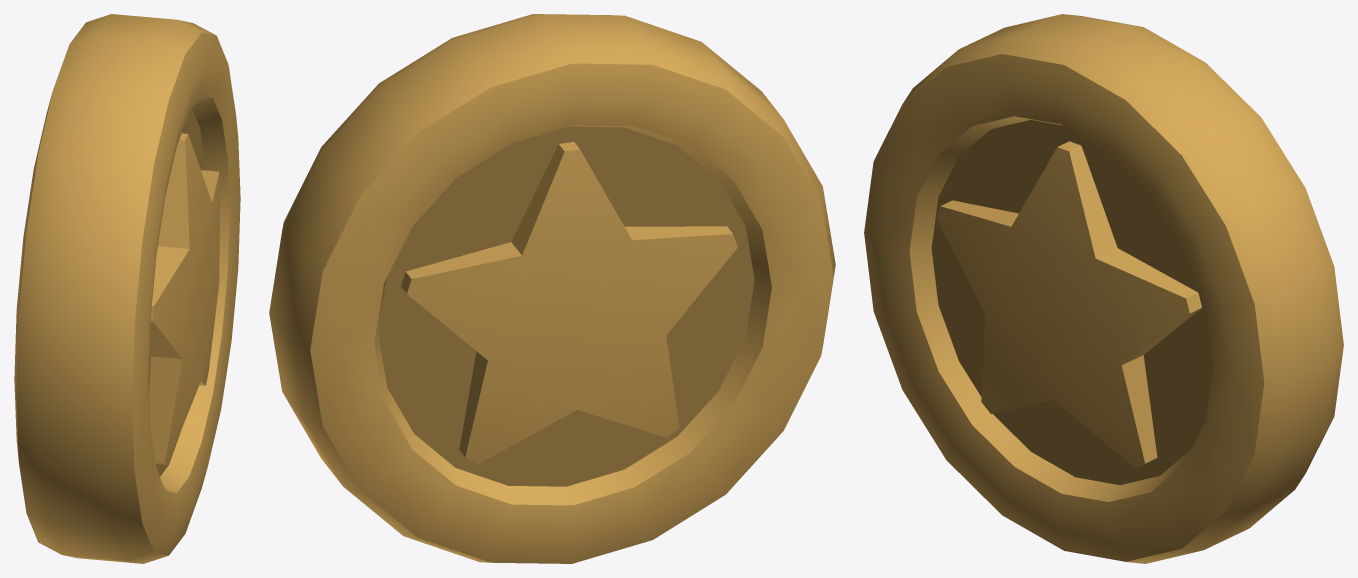
Rendered from Coin.003.fbx.
The picture shows the model from 3 angles, left to right: view 1: azimuth 30°, elevation 25°; view 2: azimuth 150°, elevation 25°; view 3: azimuth 270°, elevation 25°; orthographic projection. The views are drawn at different scales.
Visible parts, largest first — view 1: Coin.003; view 2: Coin.003; view 3: Coin.003.
Boxes of the visible parts, bbox=[...] form: Coin.003: bbox=[14, 14, 240, 563]; Coin.003: bbox=[269, 14, 835, 563]; Coin.003: bbox=[864, 14, 1343, 563].
Bounding box in the file's own units: 99.94 × 125 × 108.
